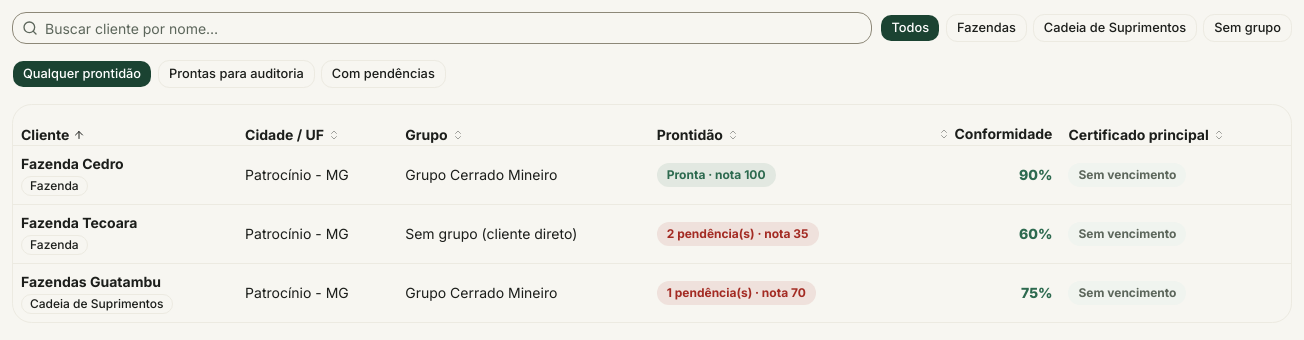
Test: Filtro de prontidão › mostra só as que têm pendência
This screenshot has width=1304, height=340.
Click the button "Com pendências" at coordinates (383, 74), box [321,60,446,88]
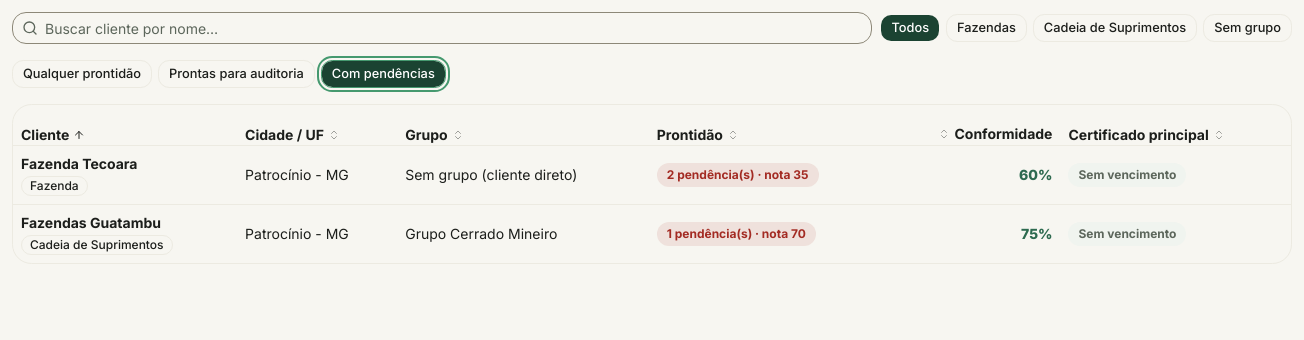
Expected: the link "Fazenda Tecoara" is shown, [21,154,138,172]
Now the link "Fazenda Cedro" is gone
